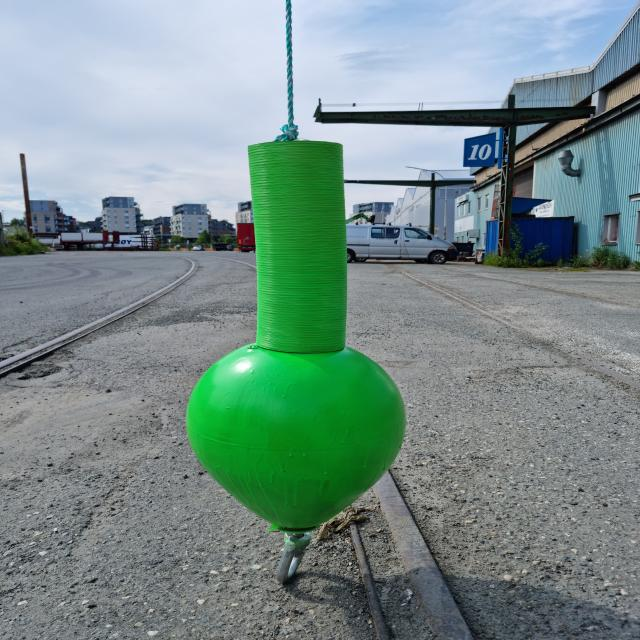green: (186, 142, 410, 529)
